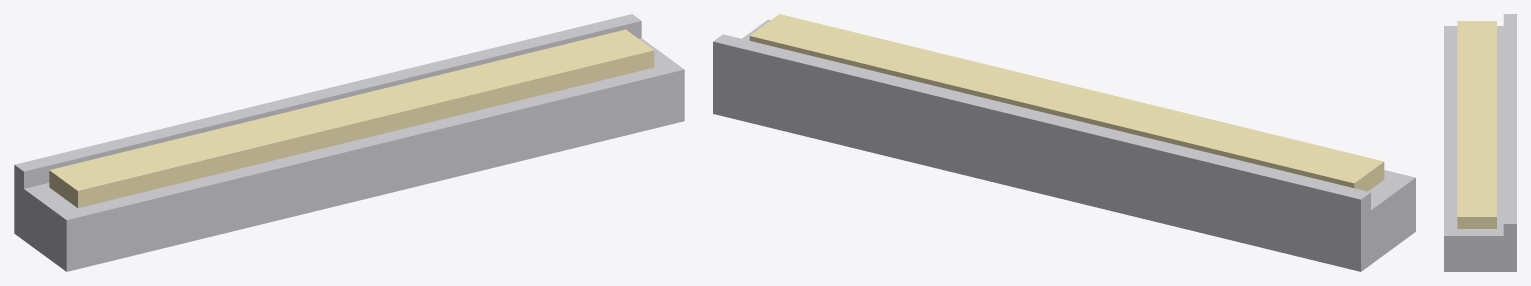
File: indirect_light.glb
The picture shows the model from 3 angles, left to right: view 1: azimuth 30°, elevation 25°; view 2: azimuth 150°, elevation 25°; view 3: azimuth 270°, elevation 25°; orthographic projection. The views are drawn at different scales.
Parts seen in each view (by area): view 1: housing, light_strip, back_plate; view 2: back_plate, light_strip, housing; view 3: light_strip, housing, back_plate.
Boxes of the visible parts, left/top/right/bottom form: housing: left=19, top=38, right=684, bottom=271; light_strip: left=49, top=29, right=654, bottom=207; back_plate: left=14, top=14, right=641, bottom=239; back_plate: left=713, top=34, right=1370, bottom=271; light_strip: left=749, top=14, right=1384, bottom=191; housing: left=742, top=19, right=1415, bottom=267; light_strip: left=1457, top=21, right=1496, bottom=228; housing: left=1444, top=26, right=1510, bottom=271; back_plate: left=1503, top=14, right=1516, bottom=271.
Size of the model in its own units: 0.75 by 0.08 by 0.11.
